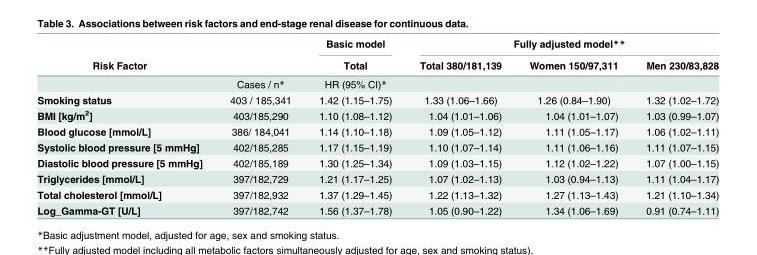table: (36, 37, 718, 215)
table column: (36, 37, 215, 215), (514, 37, 631, 215), (405, 37, 514, 215), (304, 37, 405, 215), (215, 37, 304, 215), (631, 37, 718, 215)
table column header: (36, 37, 718, 74)
table row: (36, 54, 718, 74), (36, 37, 718, 54), (36, 74, 718, 91), (36, 106, 718, 123), (36, 138, 718, 154), (36, 154, 718, 170), (36, 170, 718, 186), (36, 186, 718, 202), (36, 91, 718, 106), (36, 123, 718, 138), (36, 202, 718, 215)
table spanning cell: (36, 37, 215, 74), (405, 37, 718, 54), (304, 37, 405, 74)
